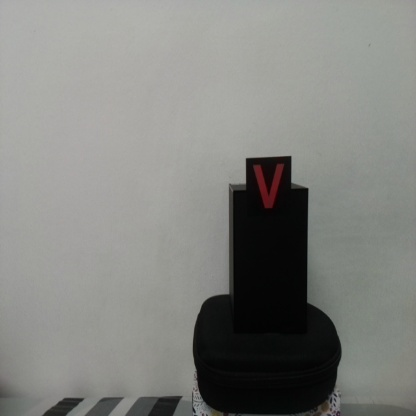id_11: (246, 158, 292, 219)
